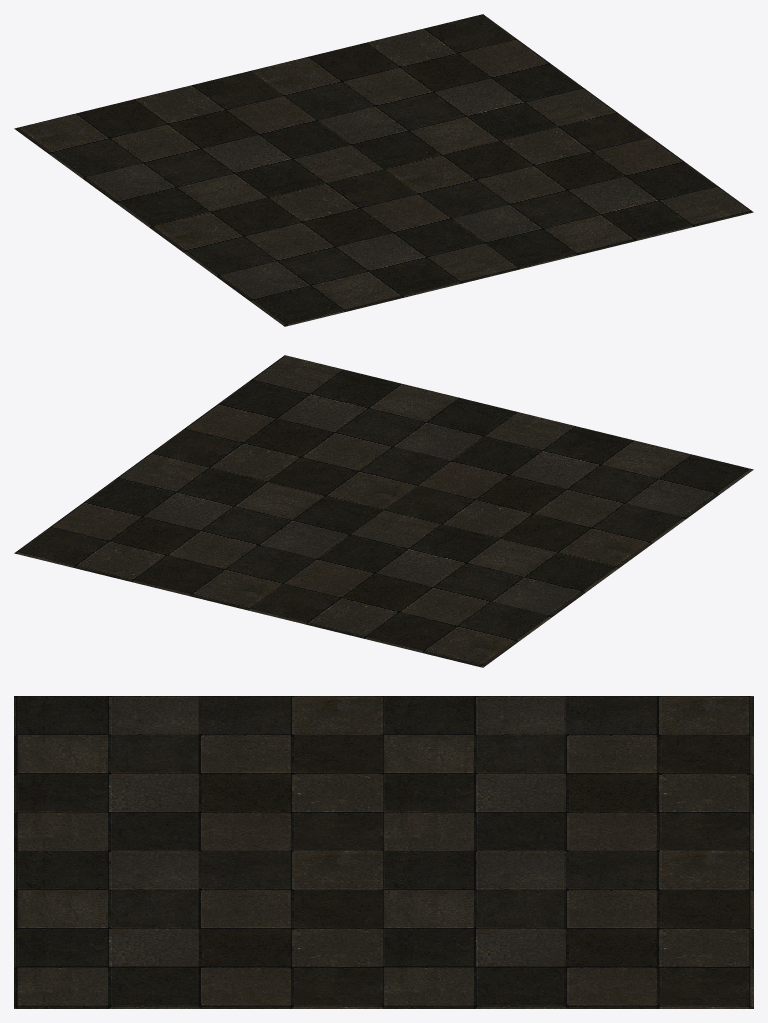
File: floor_ceiling_2.glb
The picture shows the model from 3 angles, top to bottom: view 1: azimuth 30°, elevation 25°; view 2: azimuth 150°, elevation 25°; view 3: azimuth 270°, elevation 25°; orthographic projection. The views are drawn at different scales.
Parts seen in each view (by area): view 1: floor_ceiling_2; view 2: floor_ceiling_2; view 3: floor_ceiling_2.
Part boxes in pixels (x1,y1,x2,y2): floor_ceiling_2: (14, 14, 753, 326); floor_ceiling_2: (14, 355, 753, 667); floor_ceiling_2: (14, 696, 753, 1008).
Size of the model in its own units: 4.04 by 0.02 by 4.04.
2 materials, 2 textured.
